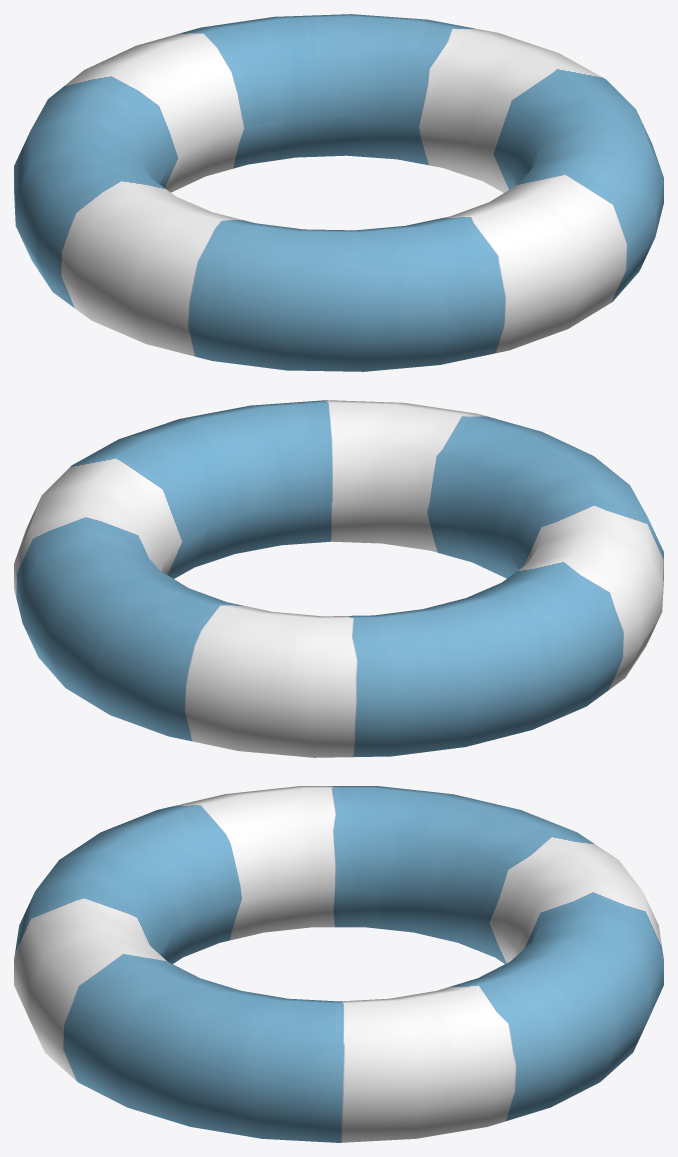
The model's file is PoolToy02.glb.
3 renders of one model, top to bottom at view 1: azimuth 30°, elevation 25°; view 2: azimuth 150°, elevation 25°; view 3: azimuth 270°, elevation 25°, orthographic.
Parts seen in each view (by area): view 1: PoolToy02; view 2: PoolToy02; view 3: PoolToy02.
Part boxes in pixels (box(x1,y1,x2,y2)): PoolToy02: box(14, 14, 663, 371); PoolToy02: box(14, 400, 663, 757); PoolToy02: box(14, 786, 663, 1142).
Size of what is drawn, in the model's own units: 2.37 by 0.5514 by 2.38.
1 material, 1 textured.
